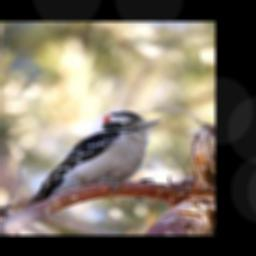Woodpecker: (26, 111, 161, 209)
